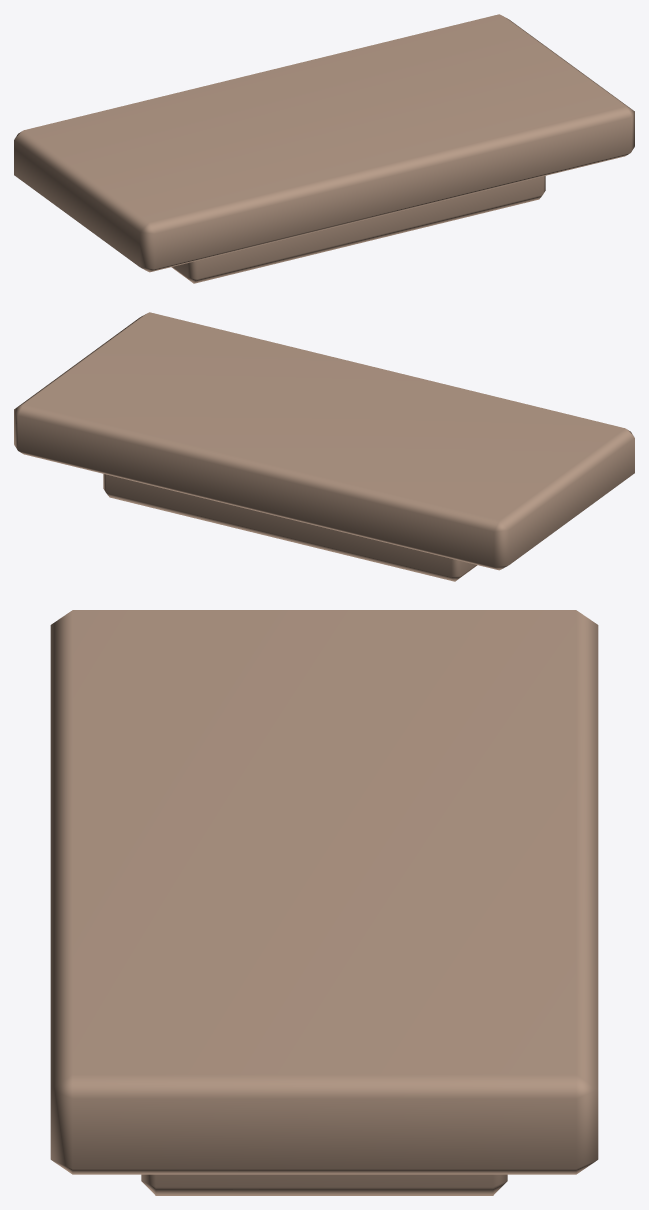
The model's file is Board_1.glb.
The picture shows the model from 3 angles, top to bottom: view 1: azimuth 30°, elevation 25°; view 2: azimuth 150°, elevation 25°; view 3: azimuth 270°, elevation 25°; orthographic projection. The views are drawn at different scales.
Parts seen in each view (by area): view 1: Board_1; view 2: Board_1; view 3: Board_1.
Boxes of the visible parts, x1,y1,x2,y2 form: Board_1: (14,14,634,283); Board_1: (14,312,634,581); Board_1: (50,610,598,1195).
Size of the model in its own units: 0.6459 by 0.1153 by 0.3094.
1 material, 1 textured.
